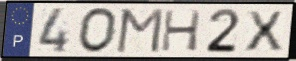2: (206, 7, 242, 55)
4: (36, 6, 73, 55)
H: (159, 9, 204, 53)
M: (114, 7, 166, 55)
O: (77, 6, 120, 55)
X: (243, 9, 285, 53)
